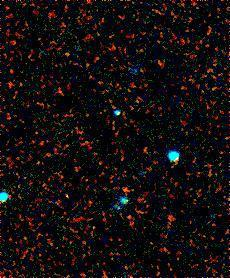star: (49, 176, 79, 206)
